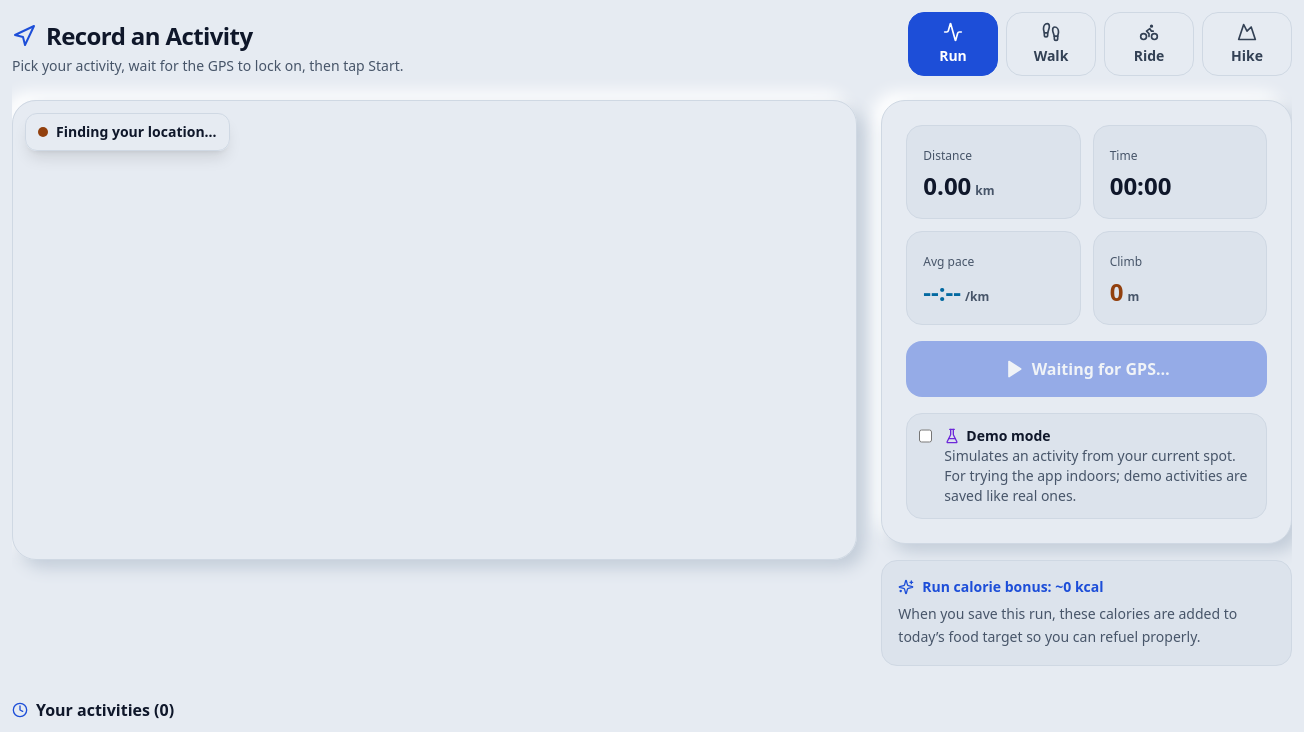
Test: RunTrackerPage - Activity Visibility during Recording › clearly displays which activity is selected before starting
Note: Switch to Ride
Click the button "Ride": [1149, 44] box [1104, 12, 1194, 76]
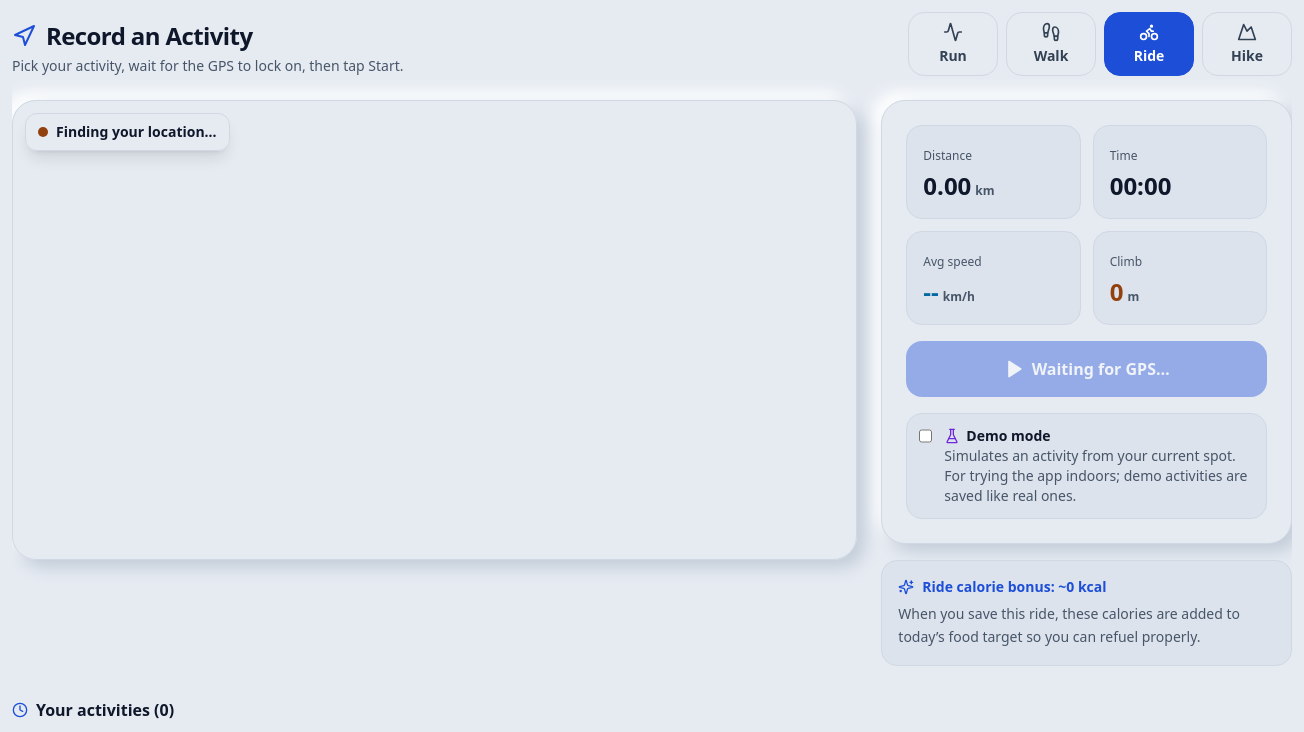
Now the button "Ride" is pressed, box [1104, 12, 1194, 76]
Note: Enable demo mode so Start button becomes enabled without live GPS
Click the checkbox labelled "Demo mode": [926, 436] box [919, 428, 932, 444]
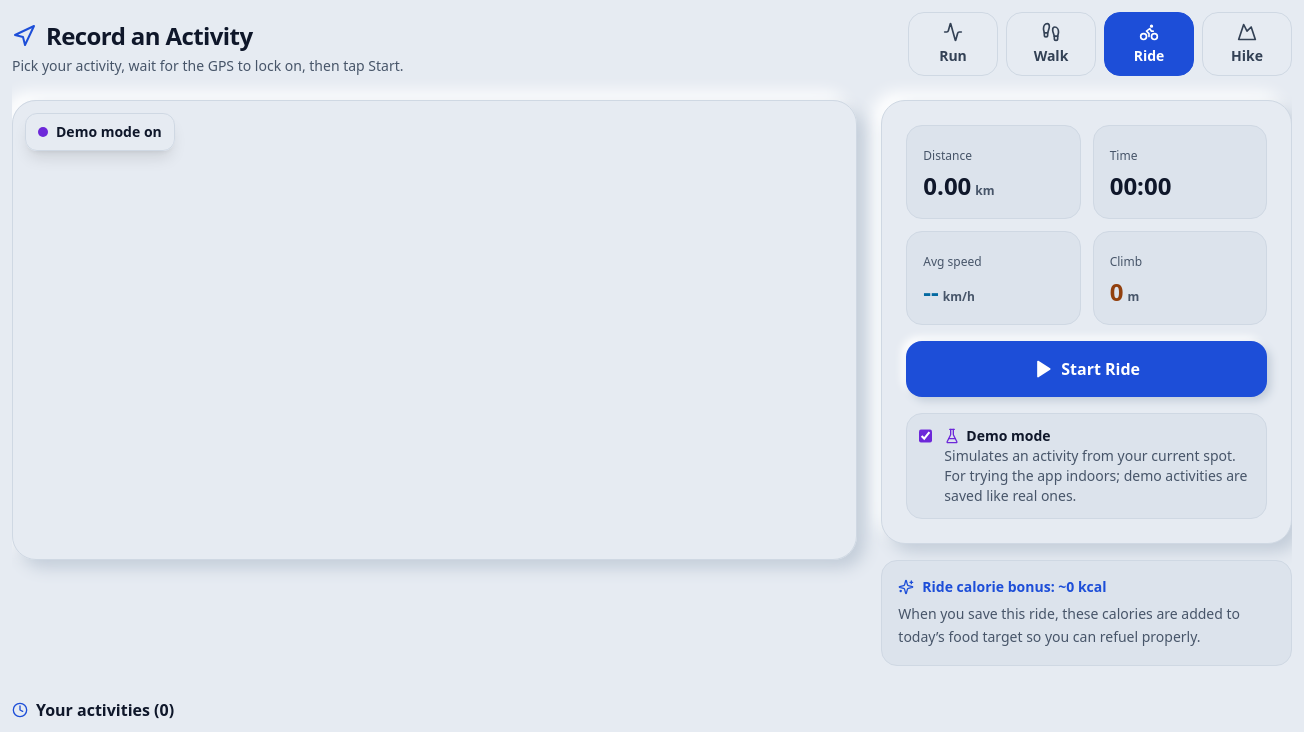
Now the button "Start Ride" is shown, box [906, 341, 1267, 397]
